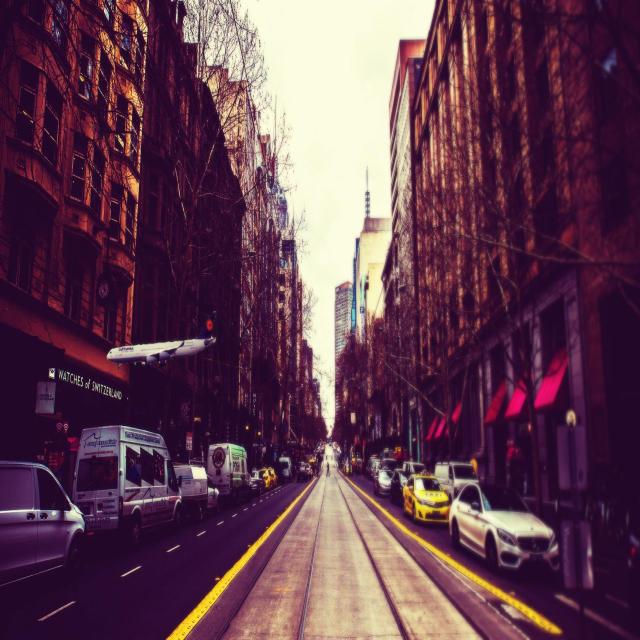airplane: (106, 310, 217, 369)
